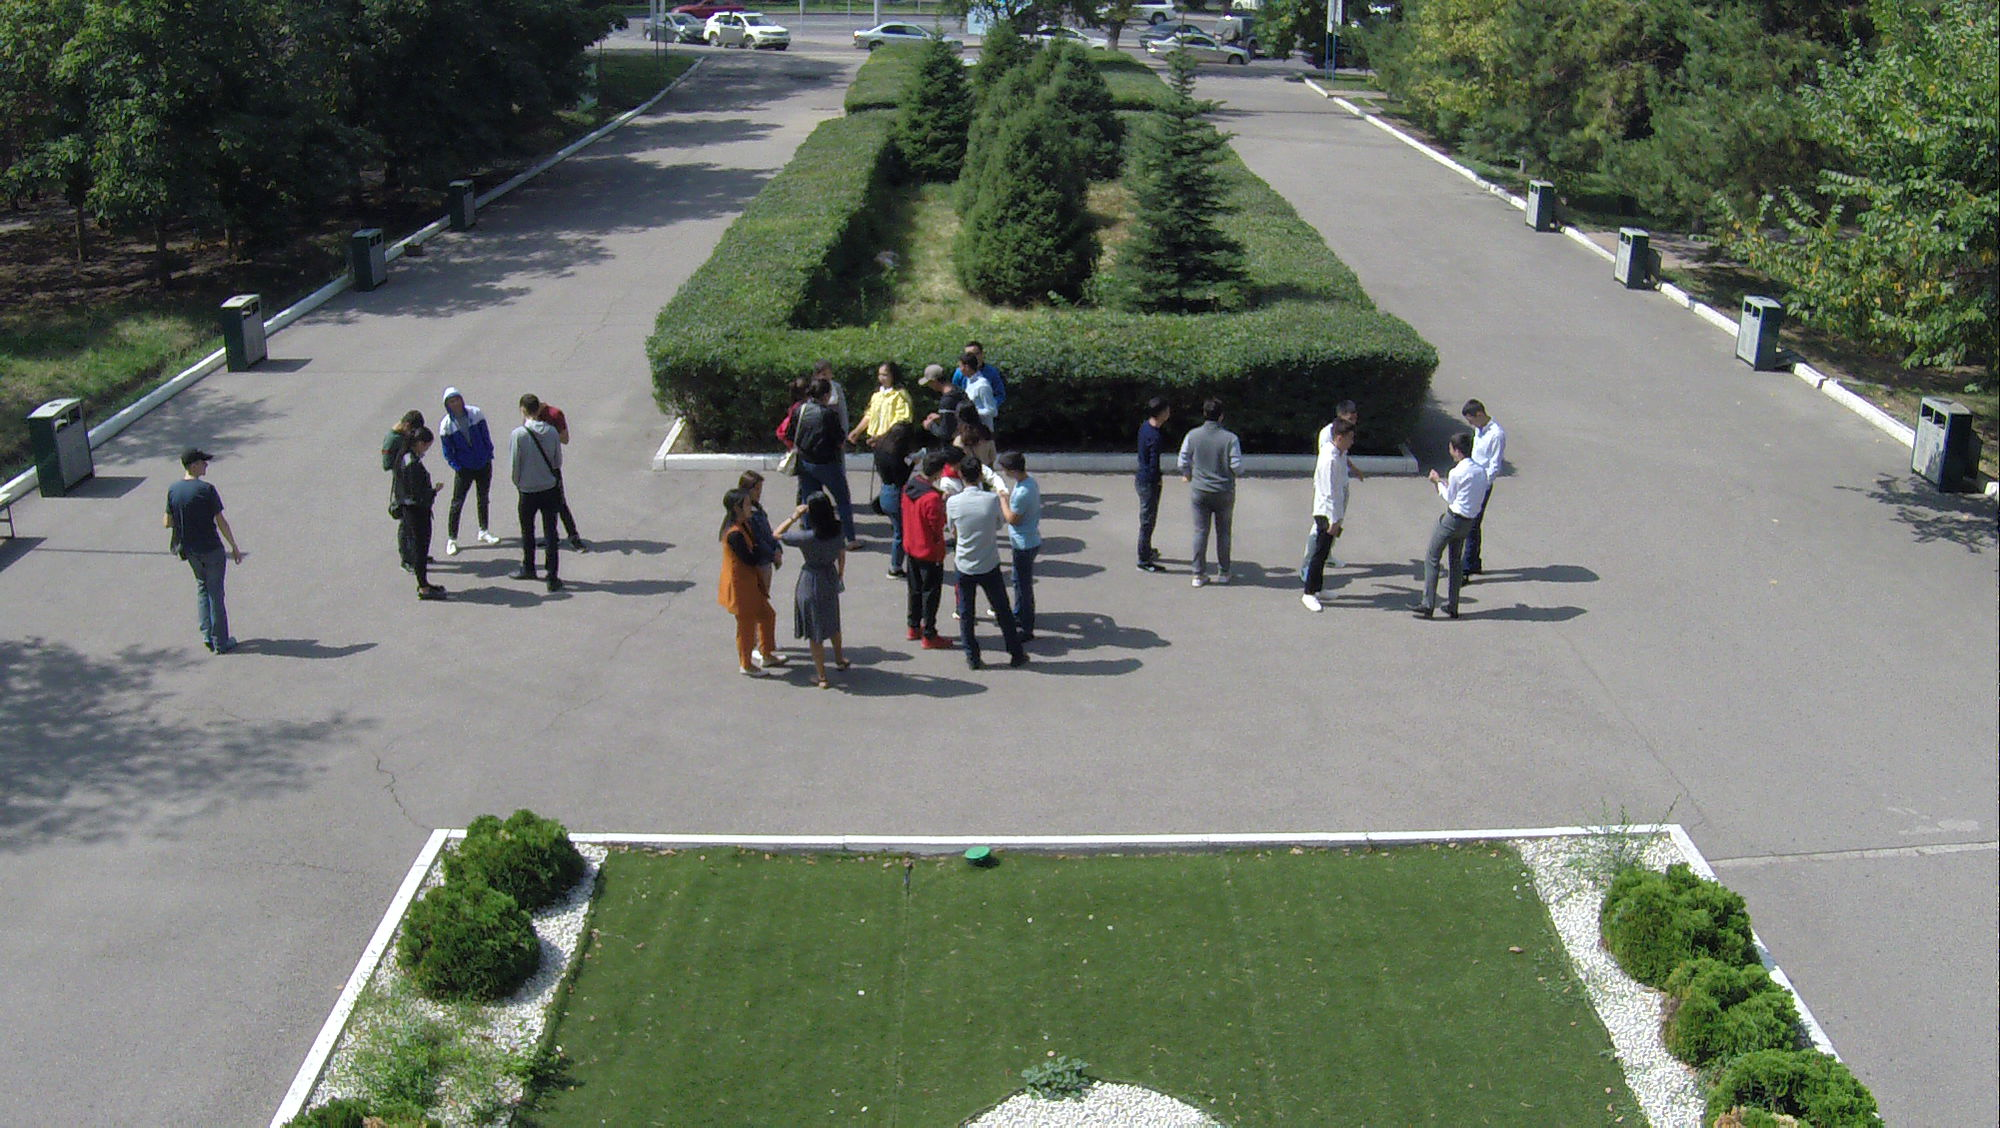person: (162, 443, 232, 670), (957, 478, 1032, 683), (703, 497, 772, 680), (785, 505, 843, 685), (1449, 391, 1512, 558), (1307, 433, 1366, 605), (1001, 453, 1051, 649), (1439, 441, 1487, 641), (514, 414, 564, 603), (1191, 399, 1237, 597), (395, 430, 445, 610), (447, 395, 495, 547), (903, 472, 941, 649), (1130, 403, 1166, 578), (793, 401, 841, 510), (857, 362, 907, 443), (962, 339, 997, 422), (924, 368, 960, 433)
